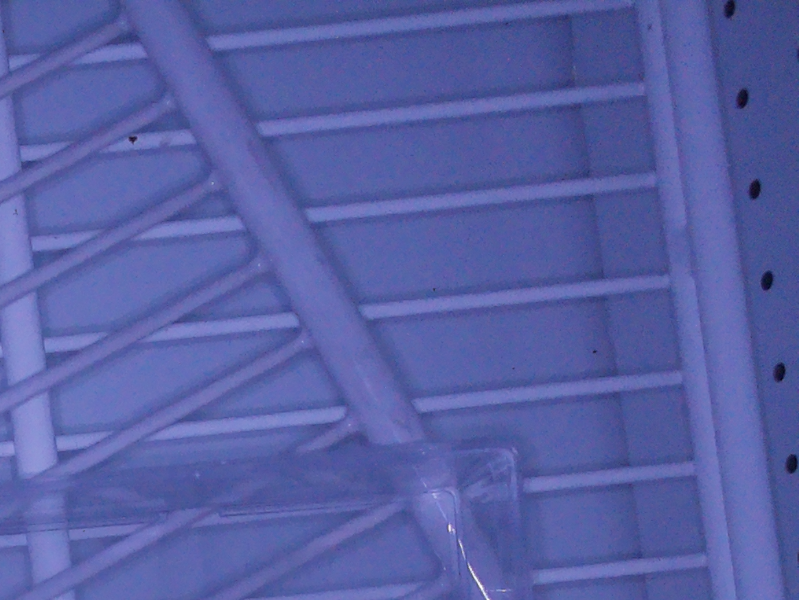plate: (1, 436, 529, 600)
